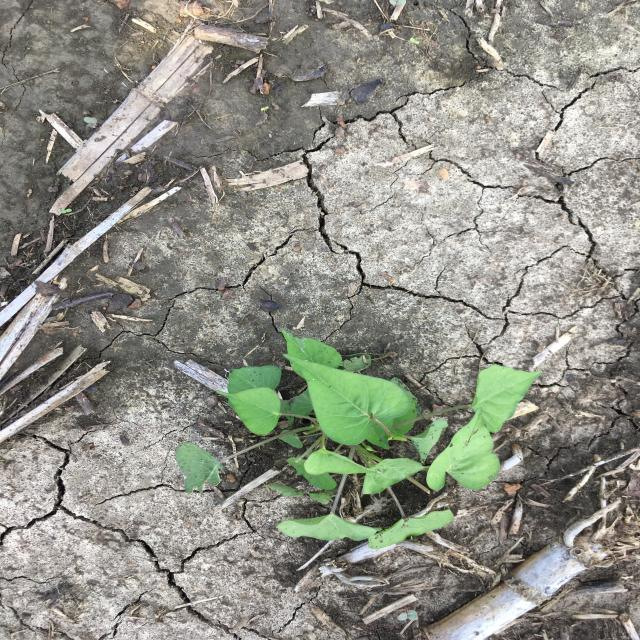MorningGlory: (171, 328, 547, 552)
